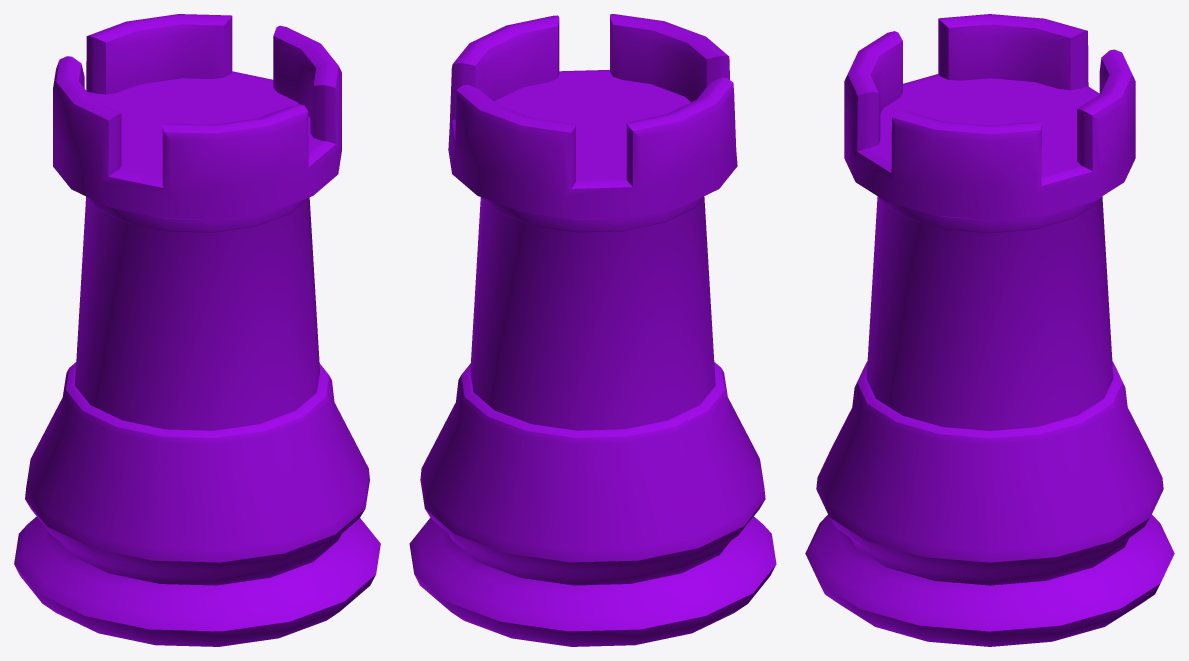
Rendered from Rook.glb.
3 views of the same model, side by side, from view 1: azimuth 30°, elevation 25°; view 2: azimuth 150°, elevation 25°; view 3: azimuth 270°, elevation 25° (orthographic).
Parts seen in each view (by area): view 1: SM_BlackRook; view 2: SM_BlackRook; view 3: SM_BlackRook.
Boxes of the visible parts, x1,y1,x2,y2 form: SM_BlackRook: (14,14,380,646); SM_BlackRook: (409,14,776,646); SM_BlackRook: (805,14,1174,646).
Size of the model in its own units: 0.5656 by 0.8566 by 0.5656.
